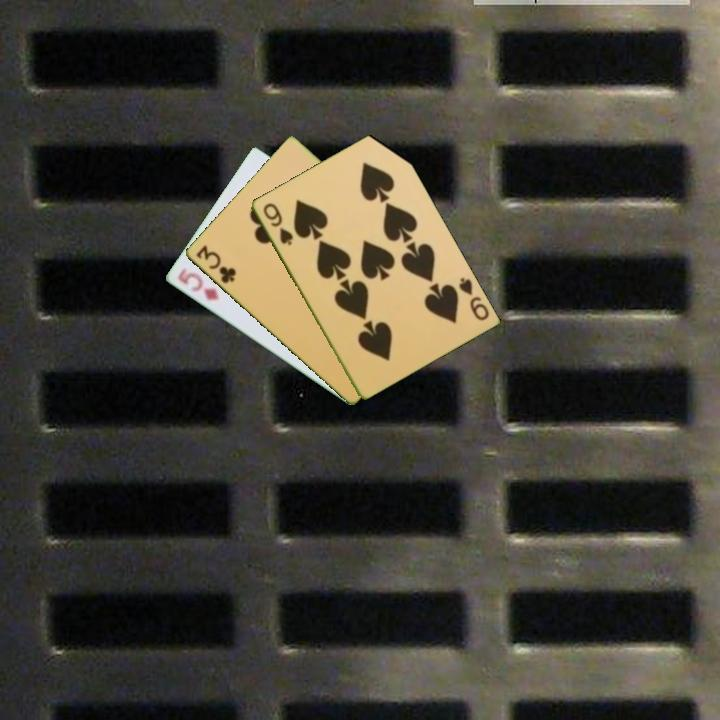3c: (192, 241, 239, 286)
5d: (174, 264, 222, 304)
9s: (455, 274, 492, 324), (259, 199, 296, 248)
